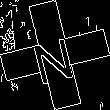N_N: (30, 26, 80, 84)
